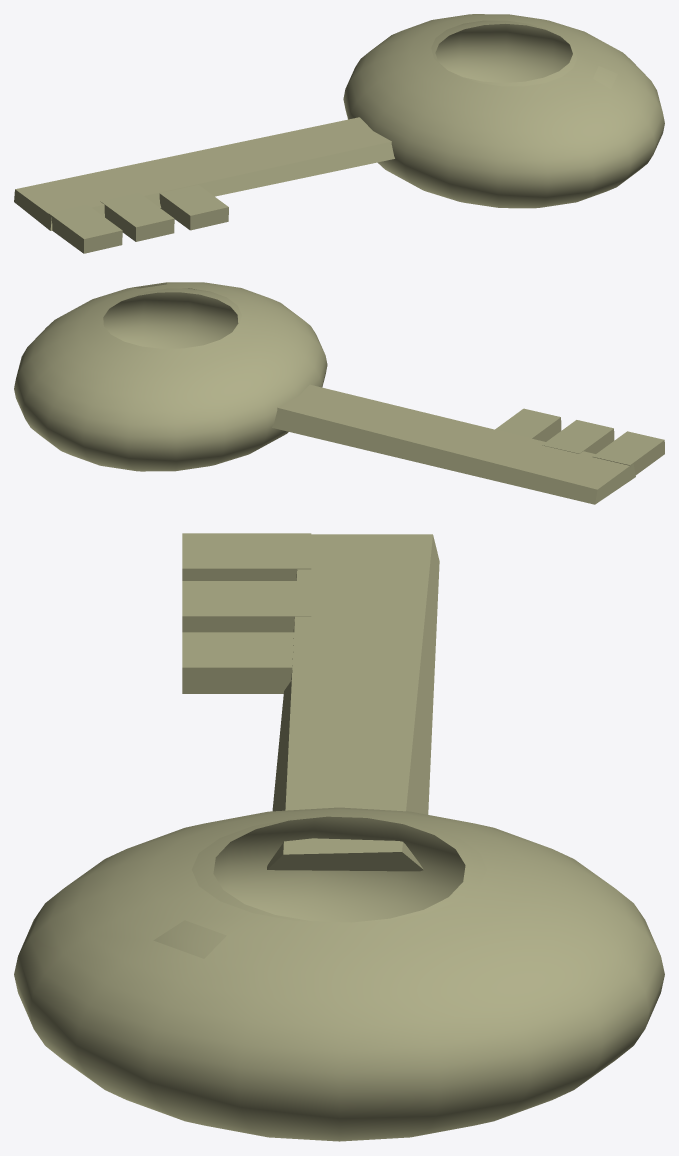
File: key.fbx
The picture shows the model from 3 angles, top to bottom: view 1: azimuth 30°, elevation 25°; view 2: azimuth 150°, elevation 25°; view 3: azimuth 270°, elevation 25°; orthographic projection. The views are drawn at different scales.
Parts seen in each view (by area): view 1: pasted__pCube2; view 2: pasted__pCube2; view 3: pasted__pCube2.
Boxes of the visible parts, x1,y1,x2,y2 form: pasted__pCube2: (14,14,664,253); pasted__pCube2: (14,282,664,504); pasted__pCube2: (14,533,664,1141).
Size of the model in its own units: 0.7967 by 0.1468 by 0.4129.
